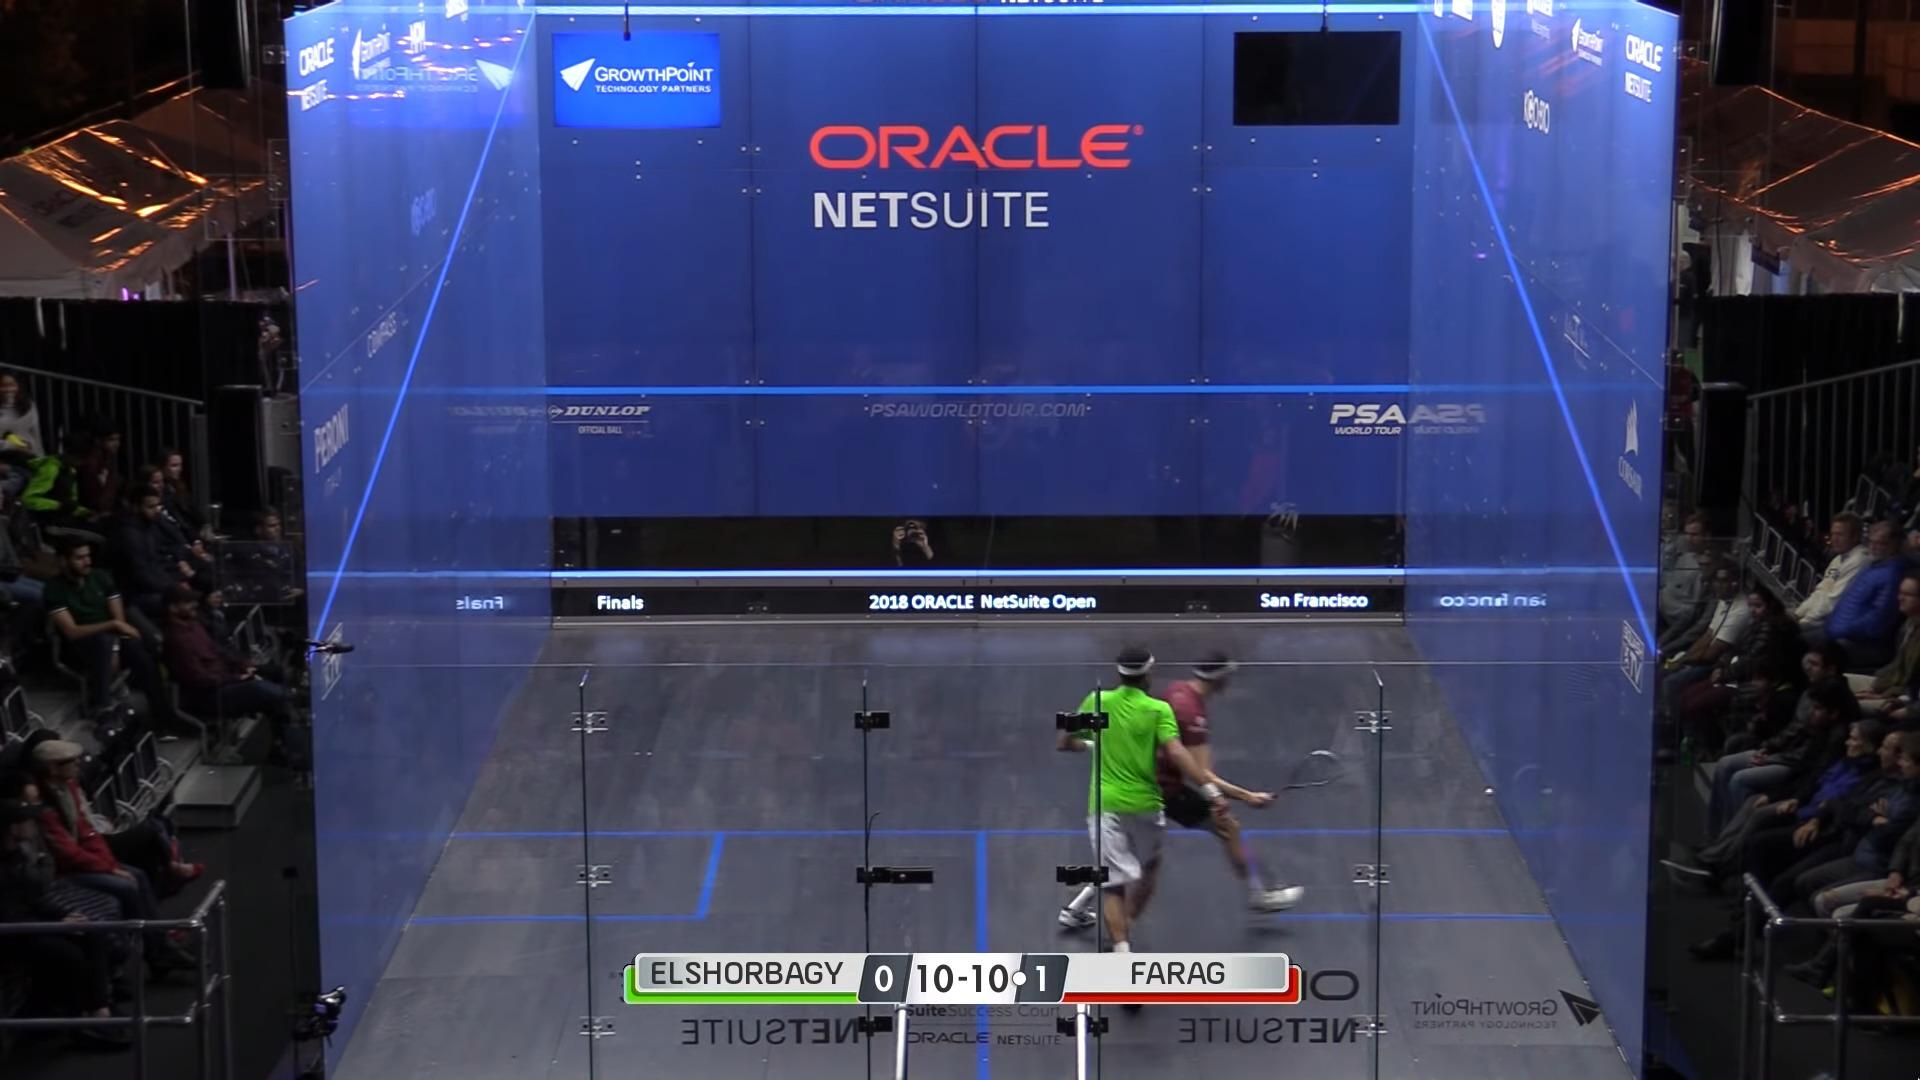Squash-Ball: (1477, 778, 1503, 803)
